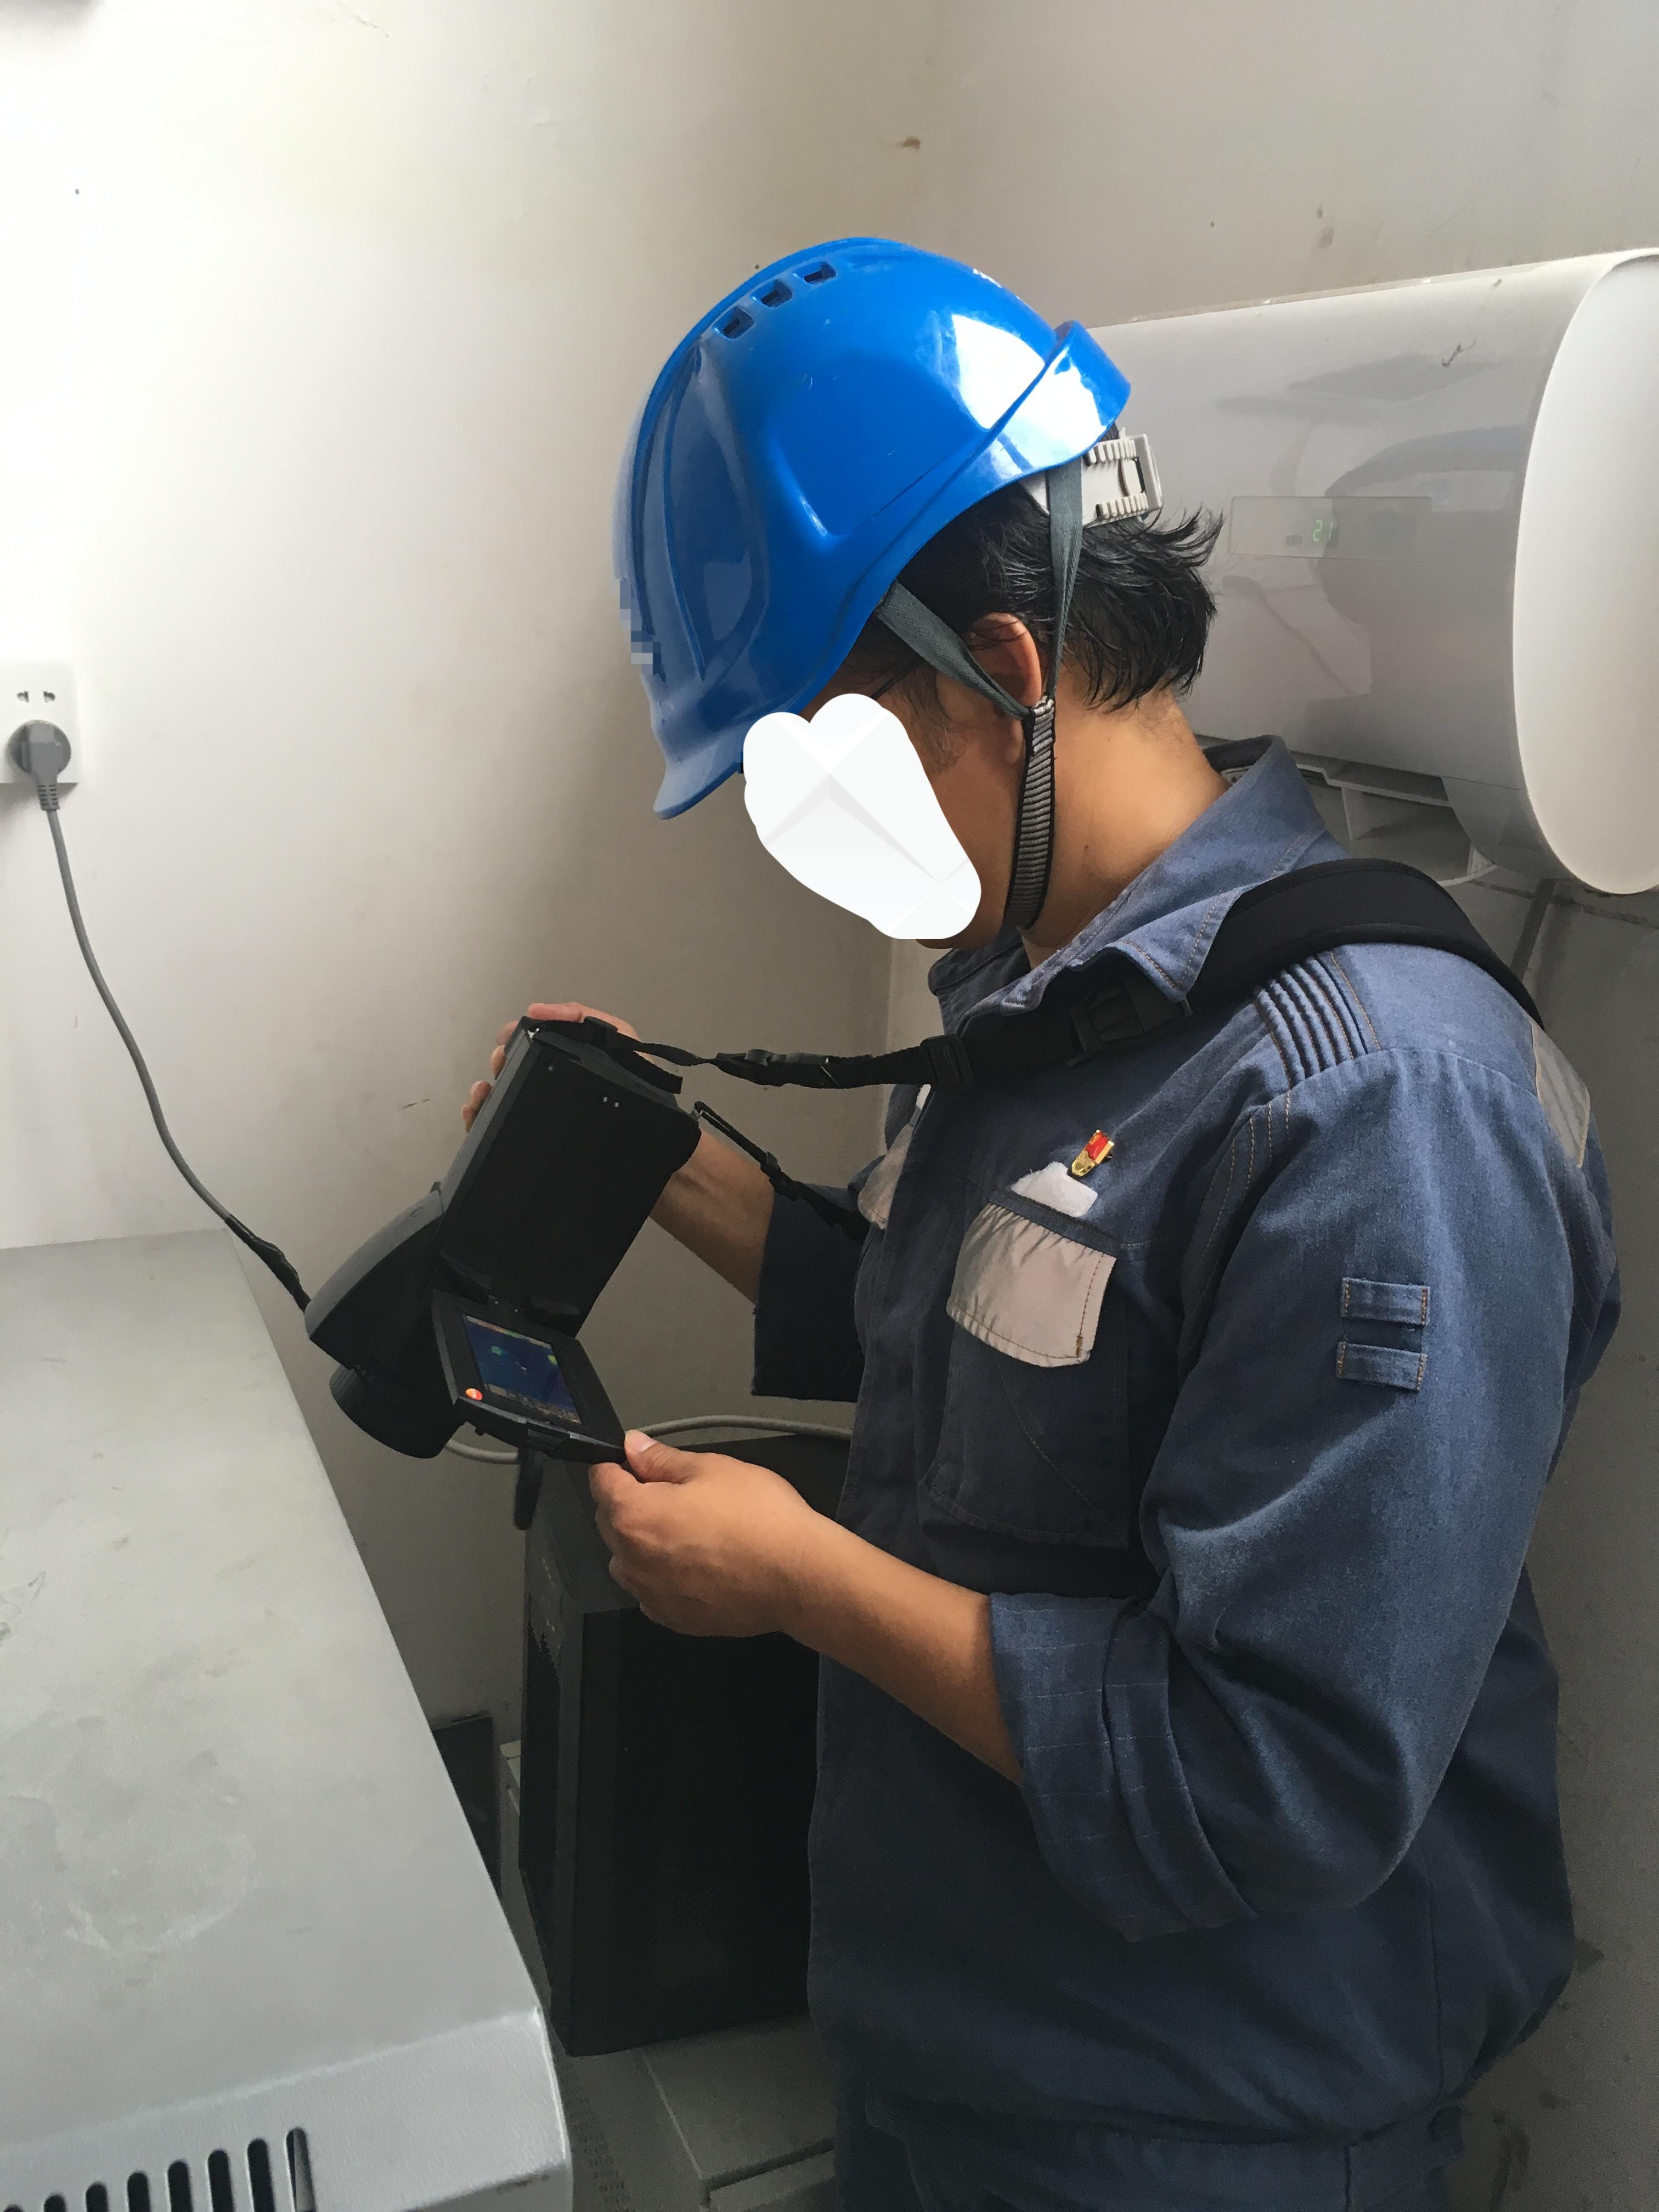halt: (606, 237, 1168, 948)
inear: (880, 519, 1103, 855)
